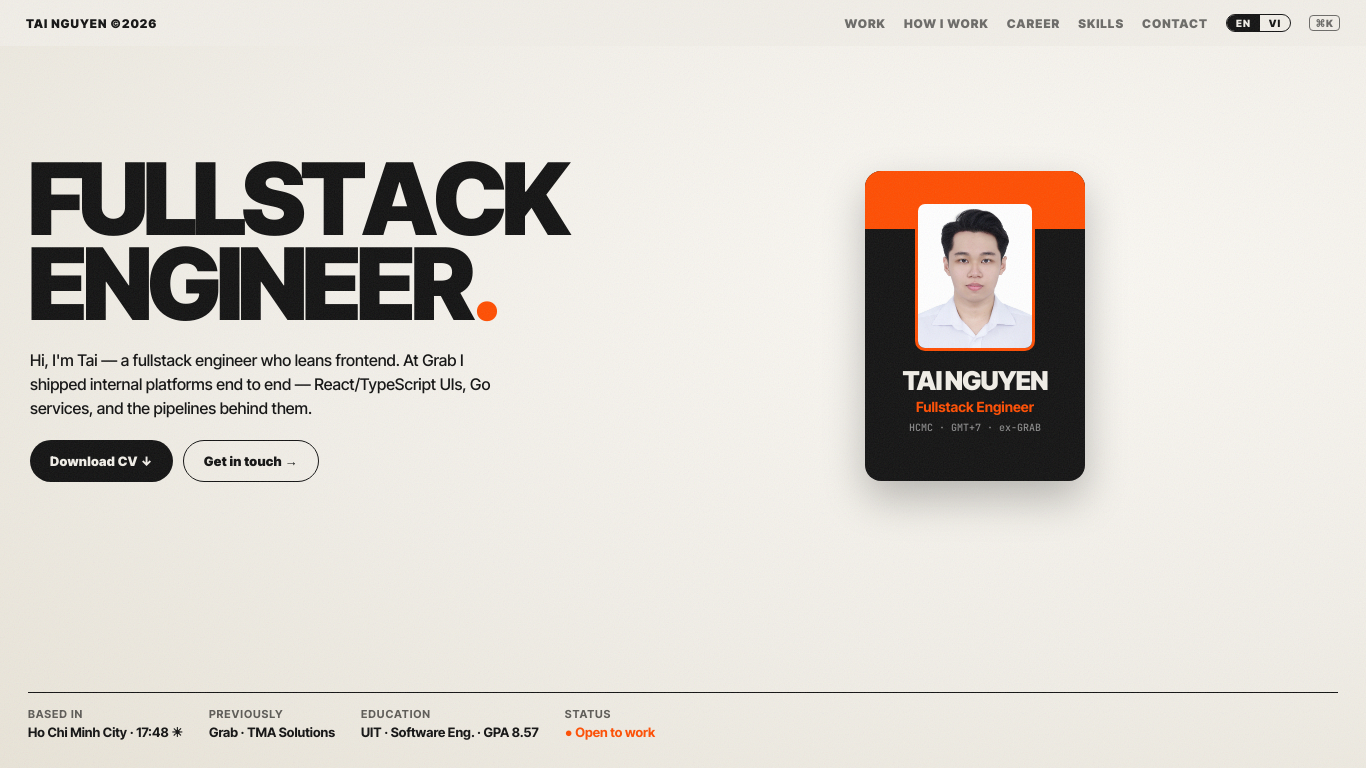
backdrop click closes
The image size is (1366, 768).
Type keys "{Meta>}k{/Meta}"
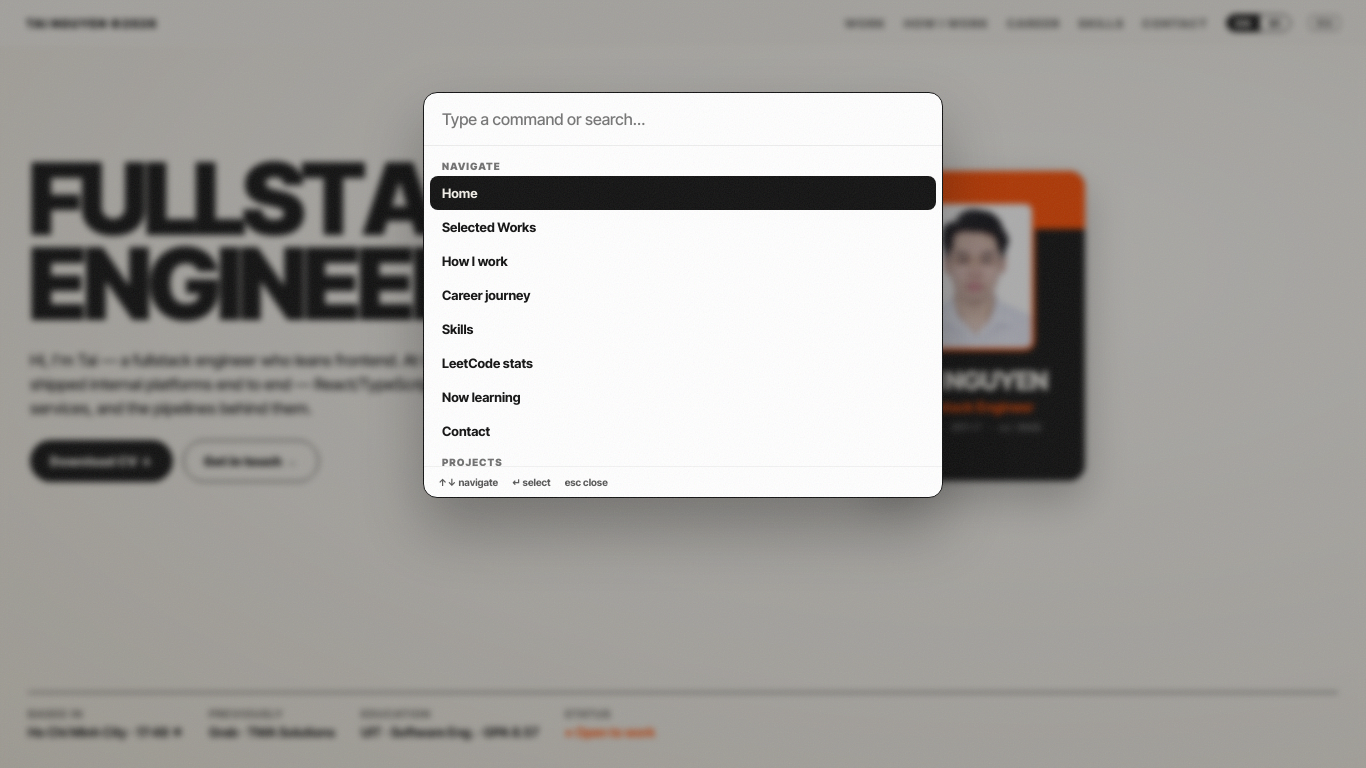
Click the element that starts with "NAVIGATE" at (82, 384), box x1=0 y1=0 x2=1365 y2=767
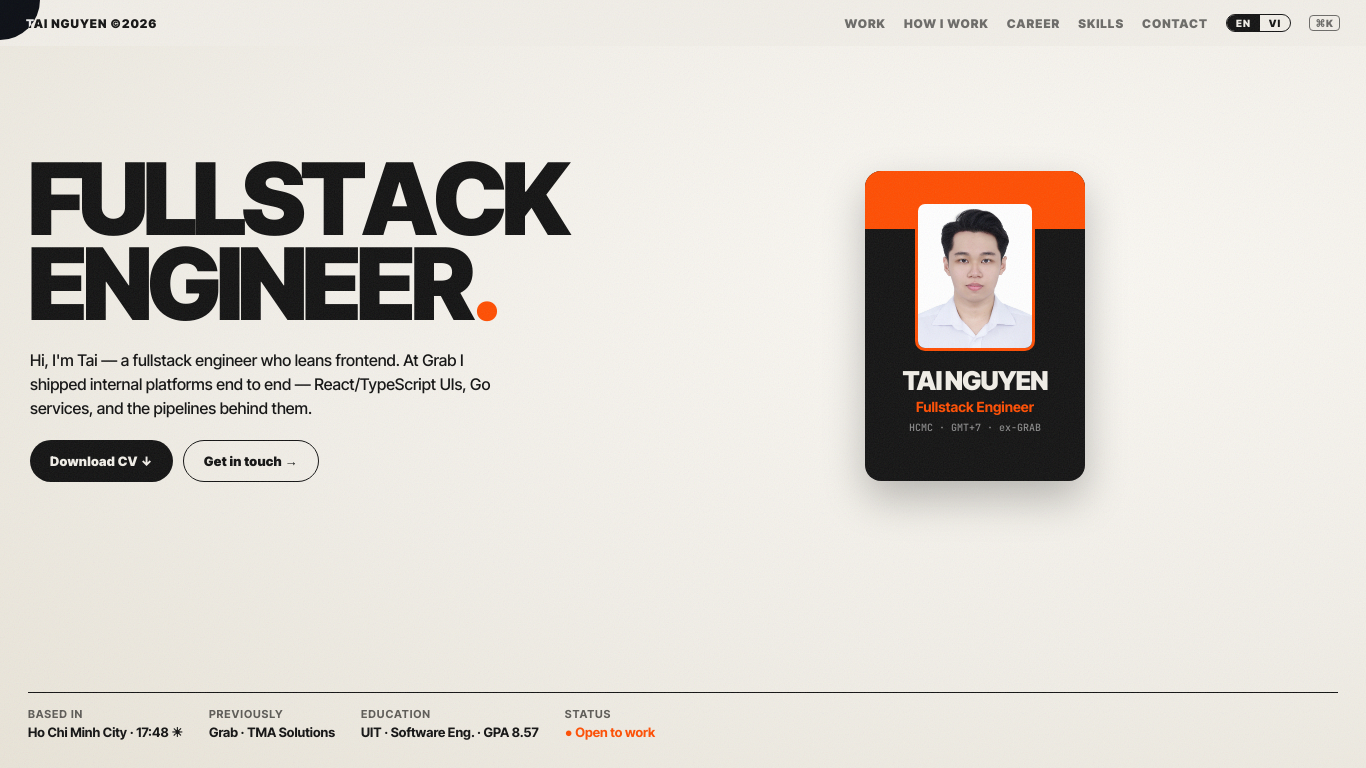
Expected: the dropdown is gone
